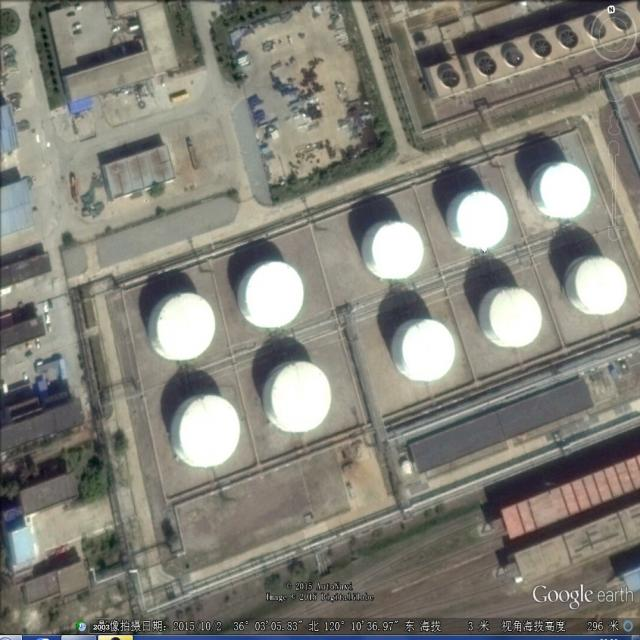oiltank: (260, 356, 334, 439), (233, 258, 312, 332), (168, 391, 242, 470), (145, 290, 218, 363), (388, 315, 460, 385), (476, 283, 545, 351), (562, 252, 631, 320), (358, 218, 426, 284), (527, 159, 596, 222), (445, 189, 511, 252)
